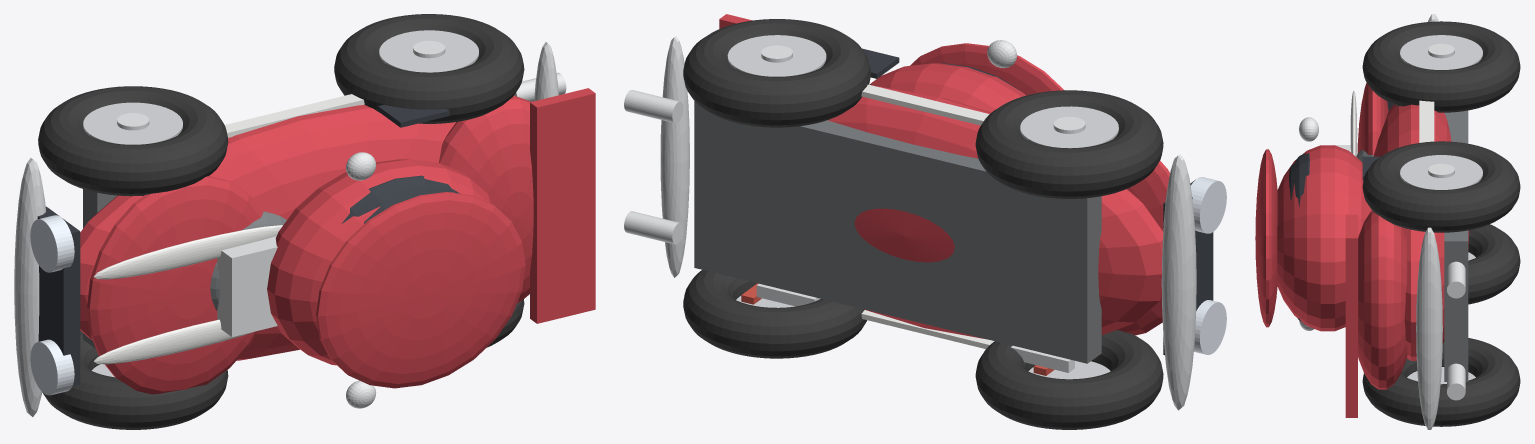
File: red_car.glb
3 renders of one model, left to right at view 1: azimuth 30°, elevation 25°; view 2: azimuth 150°, elevation 25°; view 3: azimuth 270°, elevation 25°, orthographic. The views are drawn at different scales.
Visible parts, largest first — view 1: Roof_Skin, Hood, Body_Main, Rear_Aero_Lip, FrontWheel_R, RearWheel_R, Cabin, Rear_Quarter, FrontWheel_L, Front_Bumper, Engine_Intake, Front_Grille (+14 smaller); view 2: Chassis, Body_Main, FrontWheel_R, RearWheel_R, FrontWheel_L, RearWheel_L, Front_Bumper, Rear_Bumper, Cabin, RearRim_R, FrontRim_R, Roof_Skin (+13 smaller); view 3: Cabin, RearWheel_R, FrontWheel_R, Rear_Quarter, RearWheel_L, Rear_Bumper, Body_Main, Chassis, Roof_Skin, FrontWheel_L, Rear_Aero_Lip, FrontRim_R (+10 smaller).
Part boxes in pixels (x1,y1,x2,y2): Roof_Skin: (316,192,525,388); Hood: (87,176,263,394); Body_Main: (80,105,455,360); Rear_Aero_Lip: (530,88,595,323); FrontWheel_R: (38,86,228,196); RearWheel_R: (334,14,524,123); Cabin: (267,159,493,365); Rear_Quarter: (439,95,533,303); FrontWheel_L: (42,330,228,429); Front_Bumper: (14,158,45,416); Engine_Intake: (217,236,277,336); Front_Grille: (37,206,80,386); Chassis: (694,101,1101,363); Body_Main: (828,86,1163,338); FrontWheel_R: (975,90,1163,198); RearWheel_R: (683,19,870,127); FrontWheel_L: (975,330,1163,429); RearWheel_L: (683,270,866,358); Front_Bumper: (1161,154,1196,410); Rear_Bumper: (660,36,689,277); Cabin: (869,63,1025,112); RearRim_R: (727,35,826,76); FrontRim_R: (1020,106,1118,148); Roof_Skin: (910,43,1064,95); Cabin: (1277,145,1371,331); RearWheel_R: (1362,141,1520,232); FrontWheel_R: (1362,21,1520,112); Rear_Quarter: (1358,210,1407,389); RearWheel_L: (1362,338,1520,426); Rear_Bumper: (1416,227,1442,429); Body_Main: (1373,104,1469,360); Chassis: (1444,110,1468,381); Roof_Skin: (1255,149,1277,327); FrontWheel_L: (1468,224,1520,304); Rear_Aero_Lip: (1345,214,1357,417); FrontRim_R: (1400,35,1482,69).
Size of the model in its own units: 3.99 by 1.92 by 1.98.
